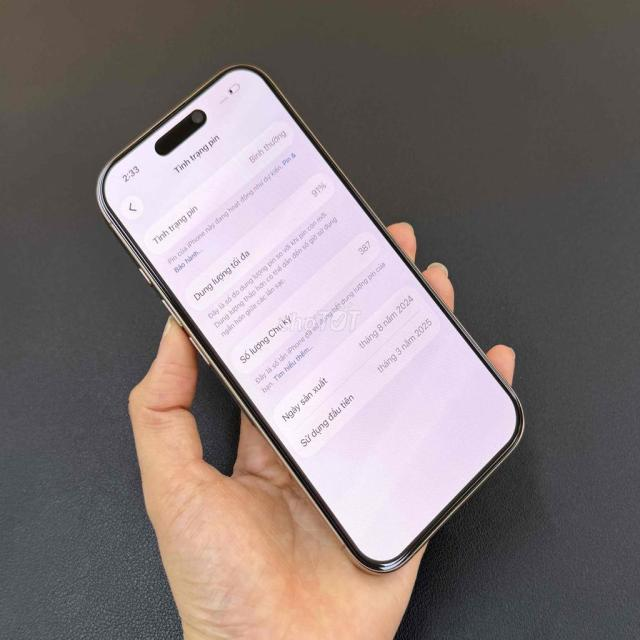gen_16: (98, 65, 523, 601)
